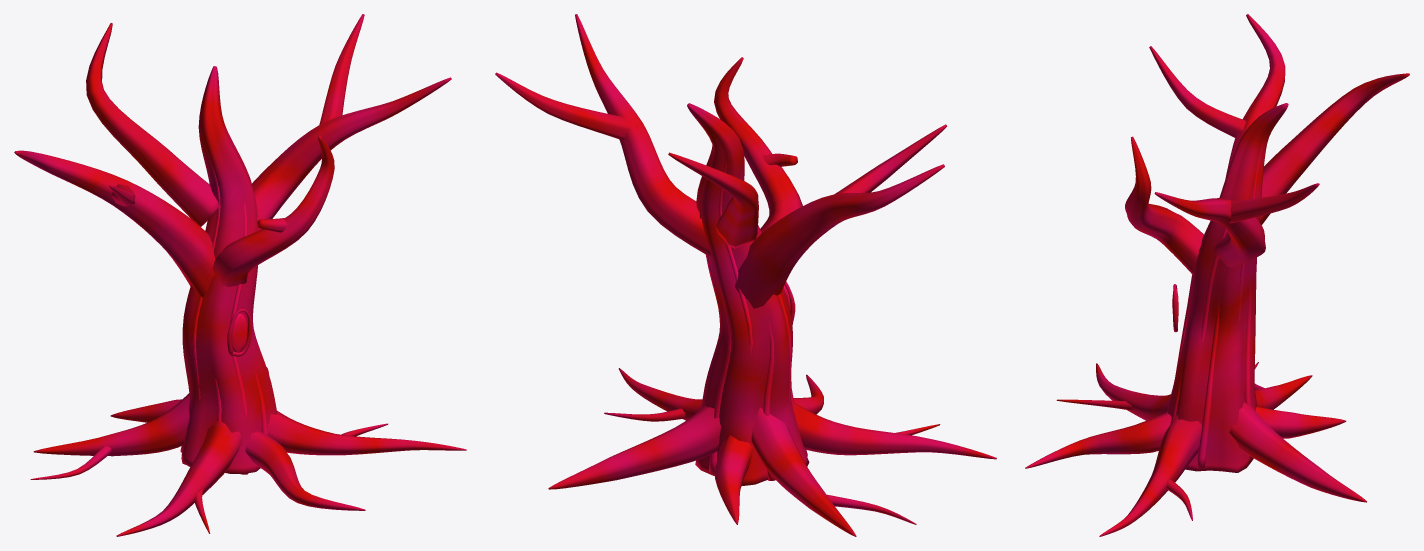
Rendered from SM_BellTree.fbx.
The picture shows the model from 3 angles, left to right: view 1: azimuth 30°, elevation 25°; view 2: azimuth 150°, elevation 25°; view 3: azimuth 270°, elevation 25°; orthographic projection. The views are drawn at different scales.
Parts seen in each view (by area): view 1: SM_BellTree; view 2: SM_BellTree; view 3: SM_BellTree.
Boxes of the visible parts, <box> form: SM_BellTree: <box>14,14,466,536</box>; SM_BellTree: <box>495,14,996,536</box>; SM_BellTree: <box>1025,14,1409,536</box>.
Size of what is drawn, in the model's own units: 647 by 762 by 686.
